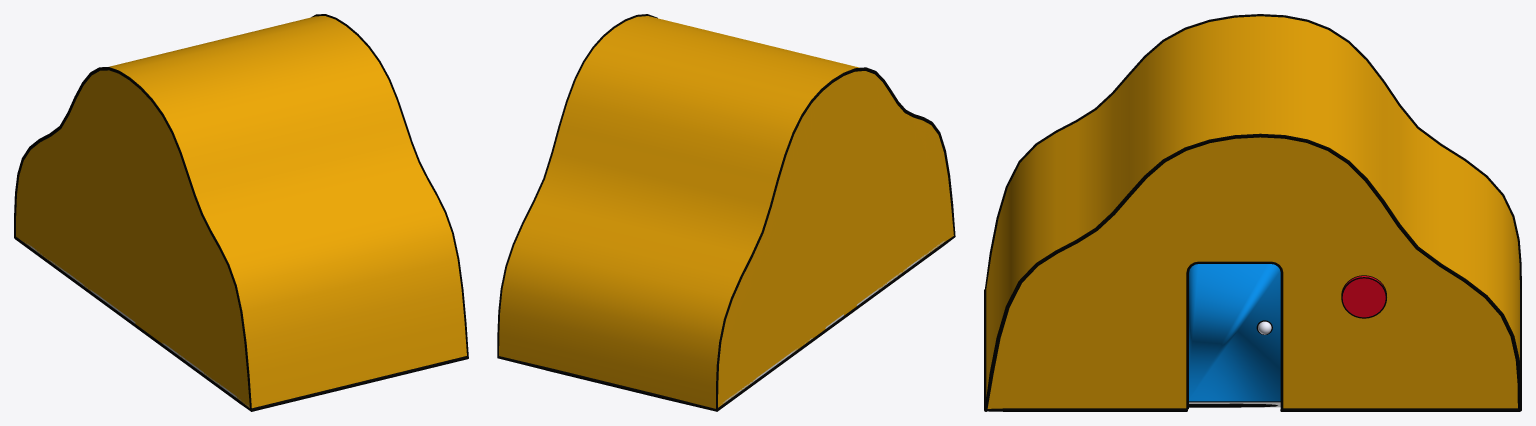
File: house.fbx
3 renders of one model, left to right at view 1: azimuth 30°, elevation 25°; view 2: azimuth 150°, elevation 25°; view 3: azimuth 270°, elevation 25°, orthographic. The views are drawn at different scales.
Parts seen in each view (by area): view 1: Cube, Cube.002, Cube_Curve; view 2: Cube, Cube.002, Cube_Curve, floor; view 3: Cube.002, Cube, DOOR, Cube_Curve, Cylinder.001, Cube.002_Curve.
Part boxes in pixels (bbox=[...]): Cube: bbox=[16, 16, 466, 408]; Cube.002: bbox=[16, 72, 252, 407]; Cube_Curve: bbox=[14, 14, 468, 411]; Cube: bbox=[499, 16, 950, 408]; Cube.002: bbox=[715, 72, 953, 408]; Cube_Curve: bbox=[497, 14, 955, 411]; floor: bbox=[721, 241, 944, 404]; Cube.002: bbox=[987, 16, 1519, 409]; Cube: bbox=[986, 16, 1519, 408]; DOOR: bbox=[1189, 264, 1280, 402]; Cube_Curve: bbox=[984, 14, 1521, 411]; Cylinder.001: bbox=[1341, 277, 1386, 318]; Cube.002_Curve: bbox=[1186, 261, 1283, 409].
Bounding box in the file's own units: 52.73 × 55.79 × 97.77.
